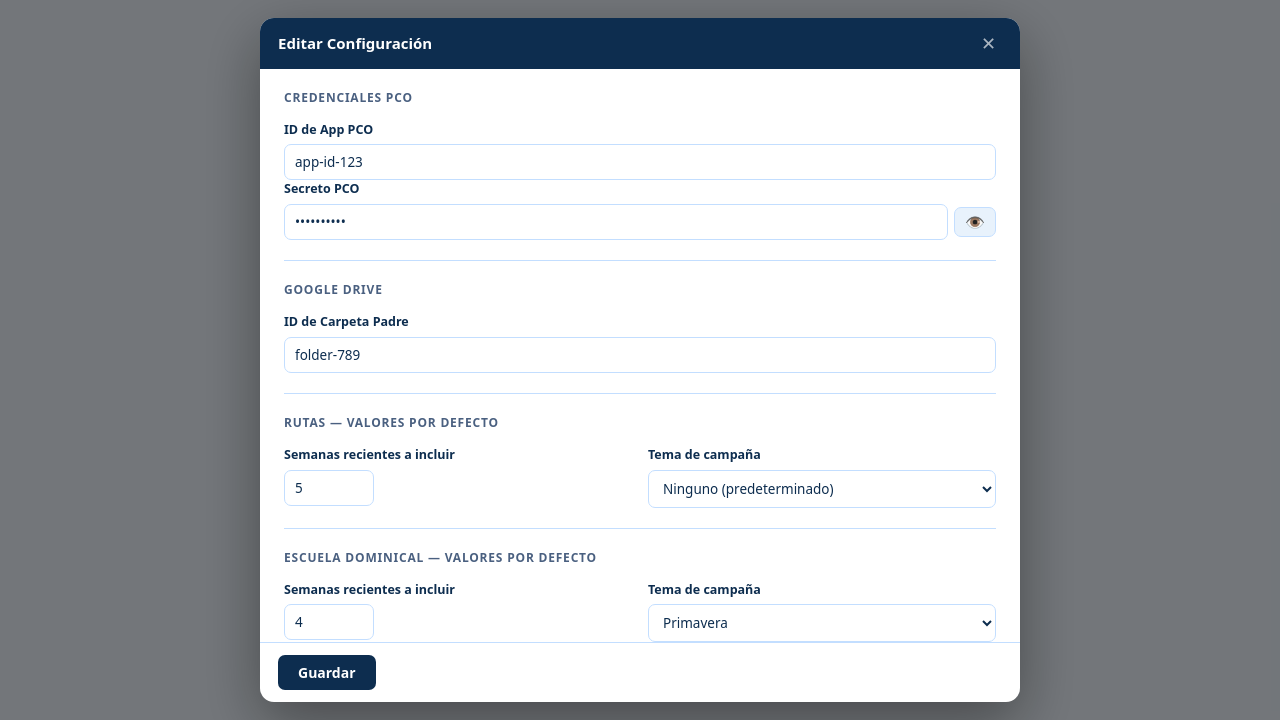
Test: SettingsModal › toggles PCO Secret visibility when the eye button is clicked
Expected: the password field showing "secret-456" is shown, 284,204 -> 948,240
Click the button "👁️" at coordinates (975, 222), box 954,207 -> 996,237
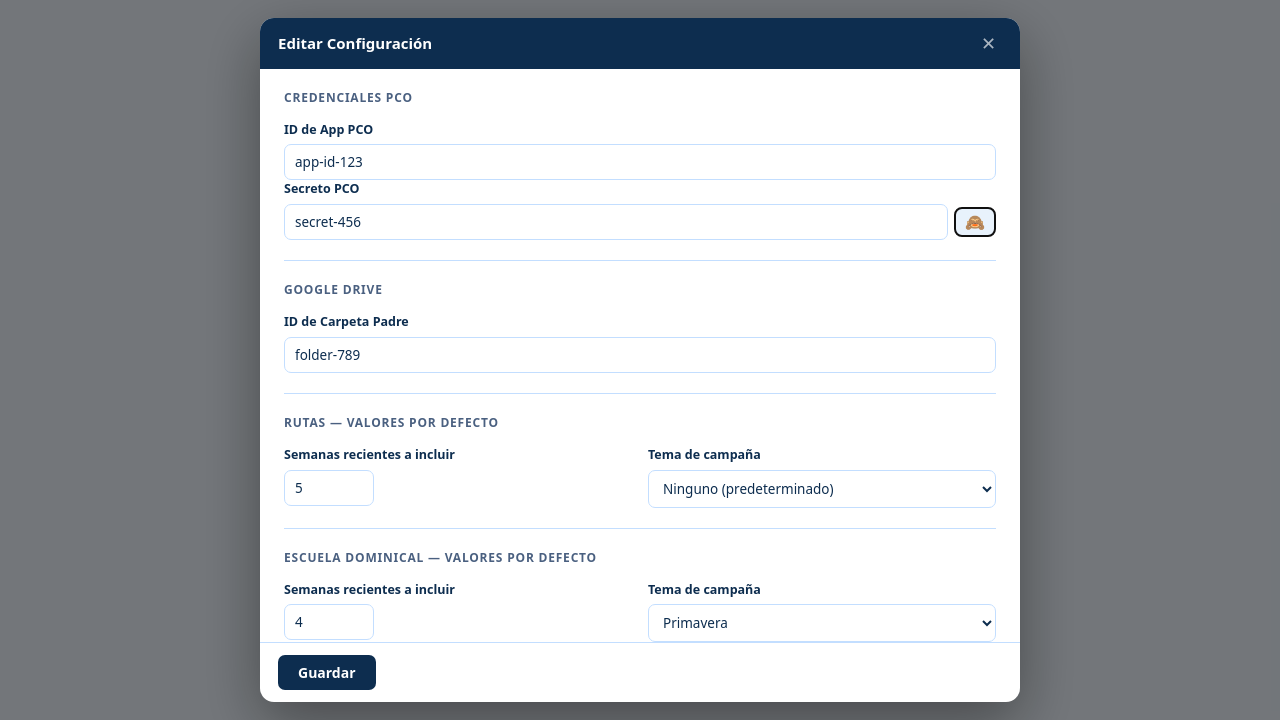
Now the field showing "secret-456" below "Secreto PCO" shows its text, box 284,204 -> 948,240
